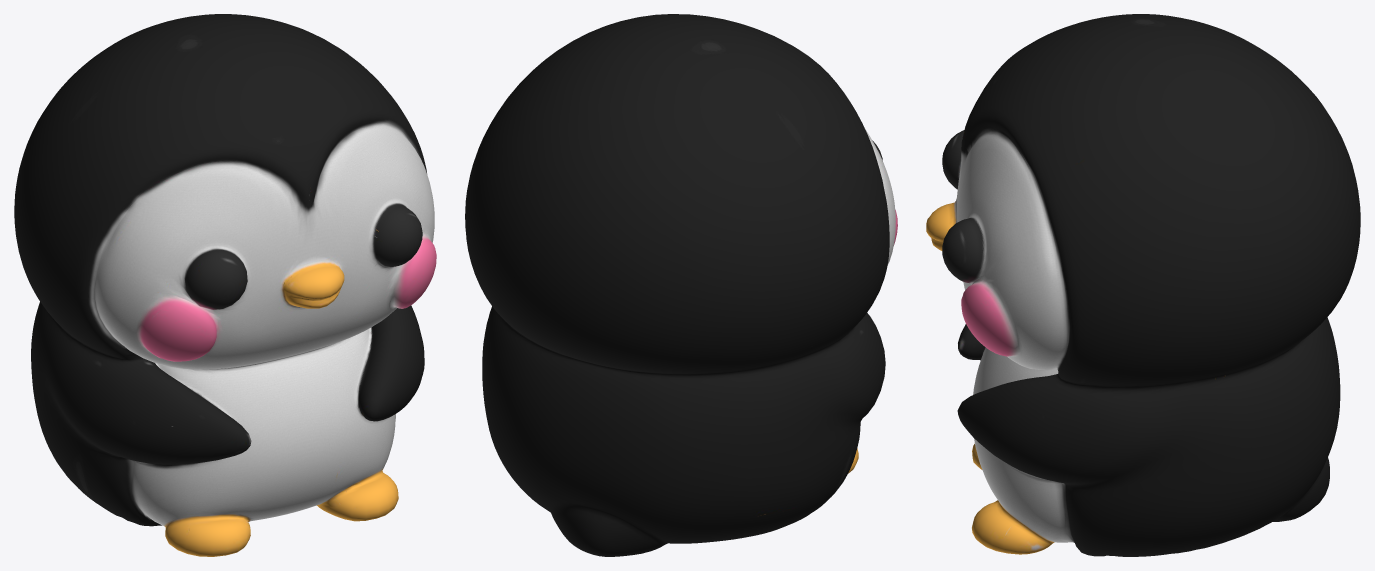
The model's file is moms_toy_2.fbx.
The picture shows the model from 3 angles, left to right: view 1: azimuth 30°, elevation 25°; view 2: azimuth 150°, elevation 25°; view 3: azimuth 270°, elevation 25°; orthographic projection. The views are drawn at different scales.
Parts seen in each view (by area): view 1: Penguin Toy -3DPrint; view 2: Penguin Toy -3DPrint; view 3: Penguin Toy -3DPrint.
Boxes of the visible parts, x1,y1,x2,y2 form: Penguin Toy -3DPrint: [14, 14, 436, 556]; Penguin Toy -3DPrint: [465, 14, 897, 556]; Penguin Toy -3DPrint: [926, 14, 1360, 556].
Size of the model in its own units: 80.53 by 95.59 by 79.81.
